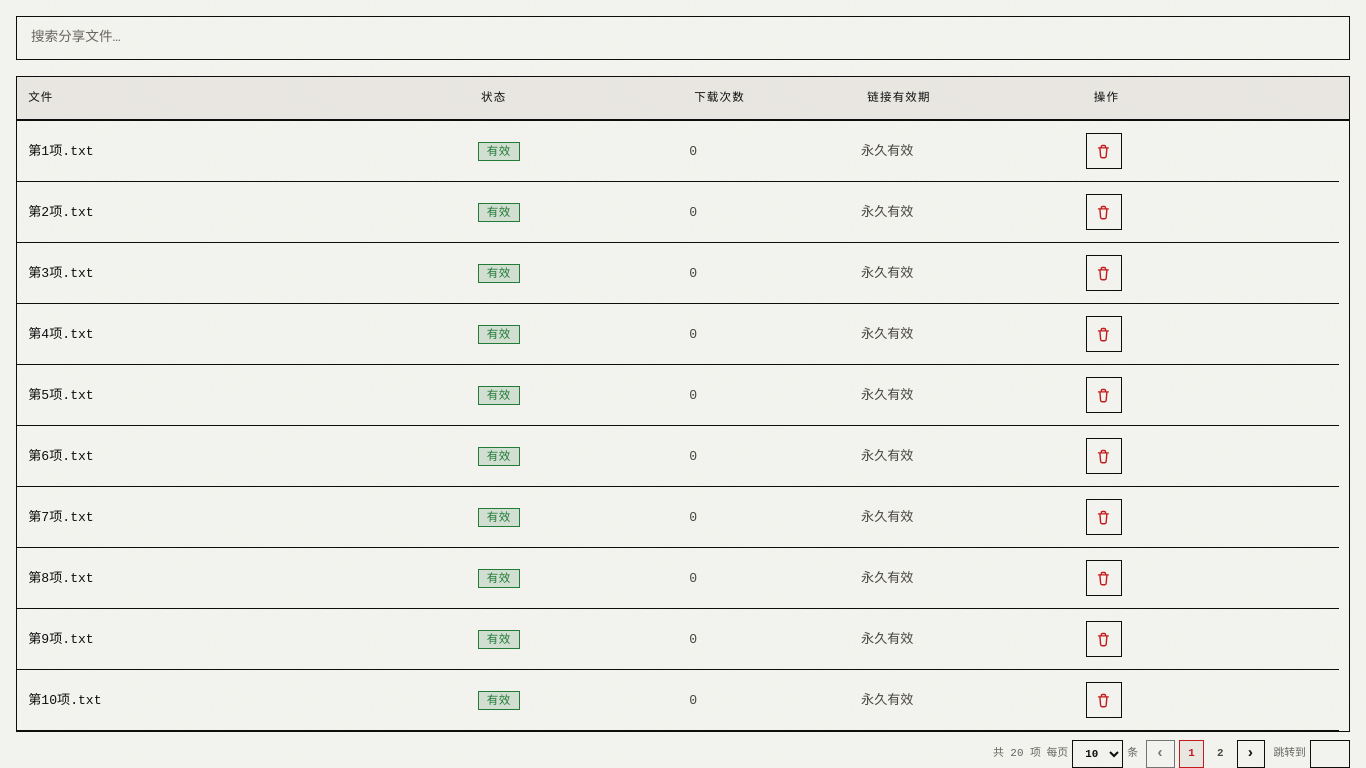
ShareList › paginates shares with ten items per page
Expected: the button "1" is shown, top-left (1179, 740), bottom-right (1204, 767)
Select "20" in the dropdown named "分享列表每页条数": (1098, 754) top-left (1072, 740), bottom-right (1123, 767)
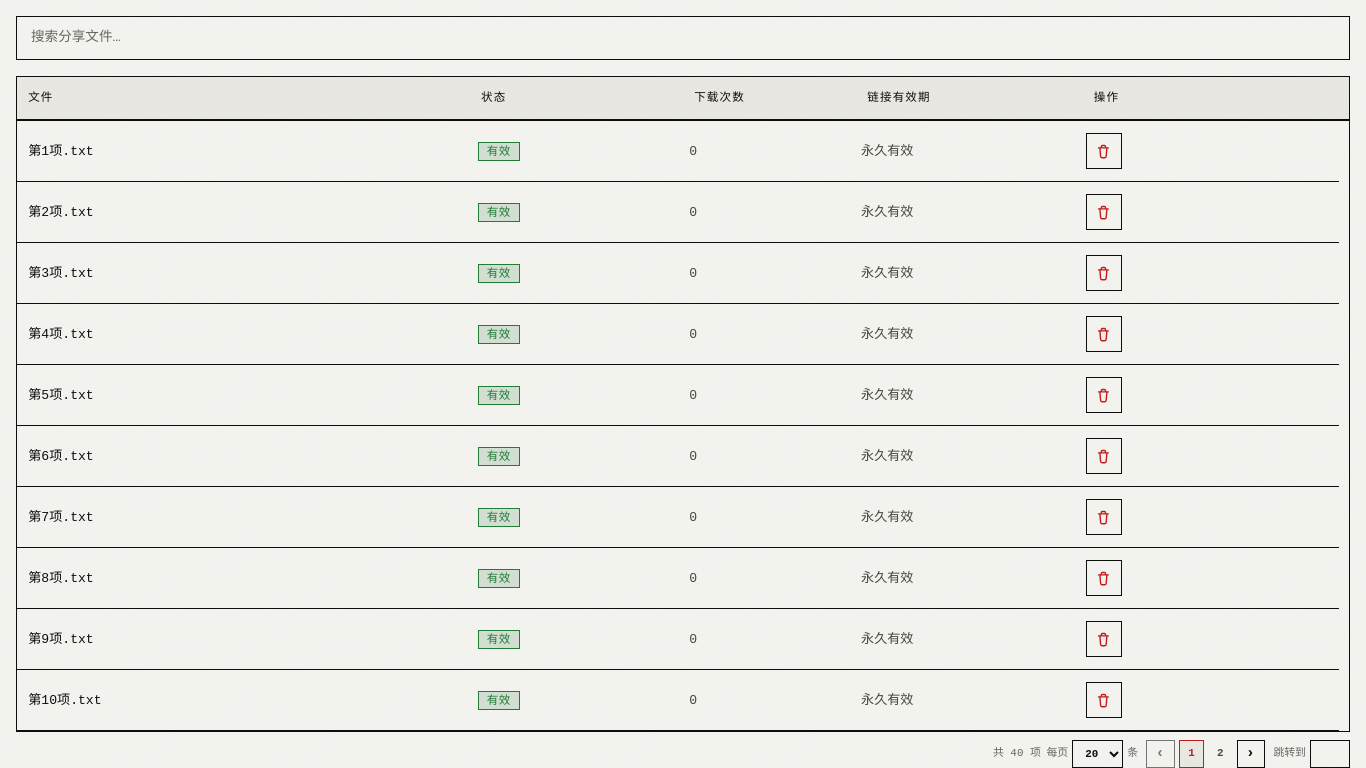
Click the button named "下一页": (1251, 754) top-left (1237, 740), bottom-right (1265, 767)
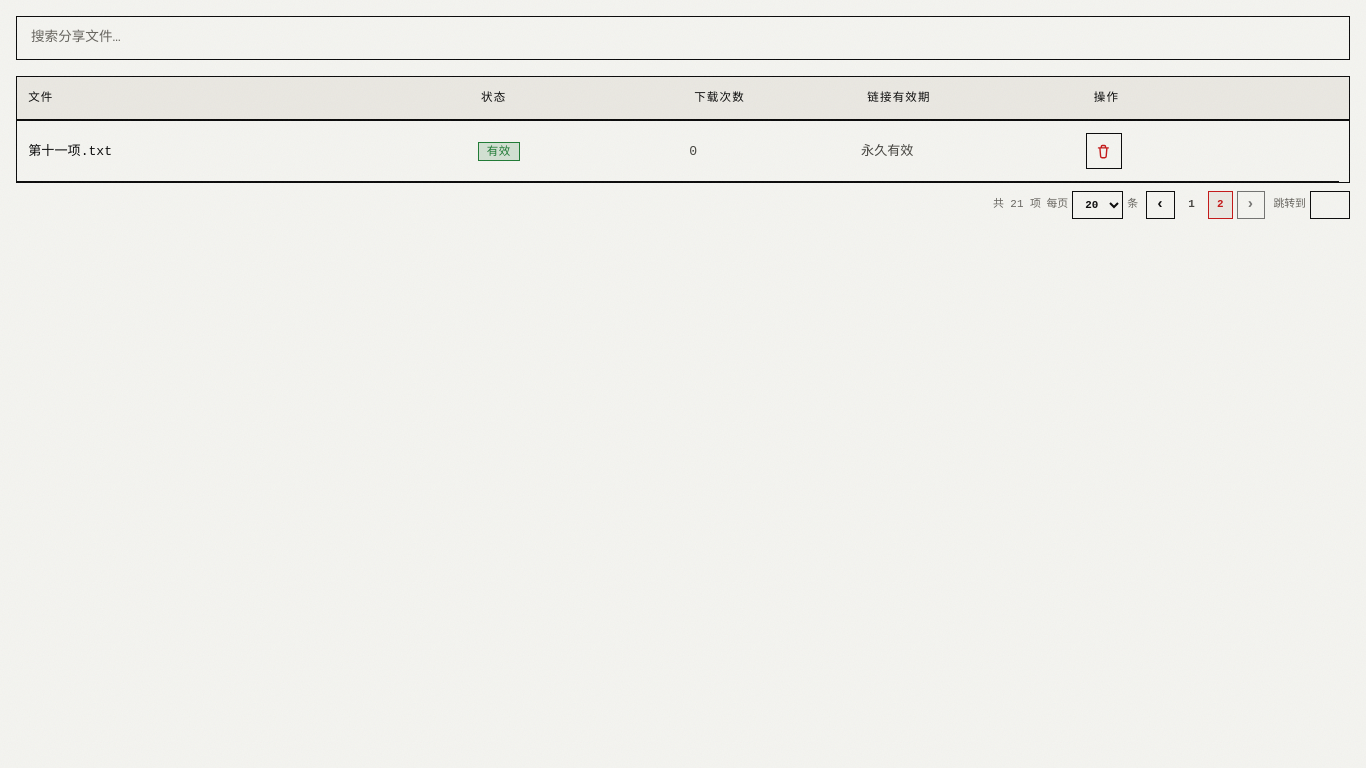
Expected: the button "2" is shown, top-left (1208, 191), bottom-right (1233, 219)
Result: the text "第十一项.txt" is shown at top-left (17, 121), bottom-right (466, 182)
